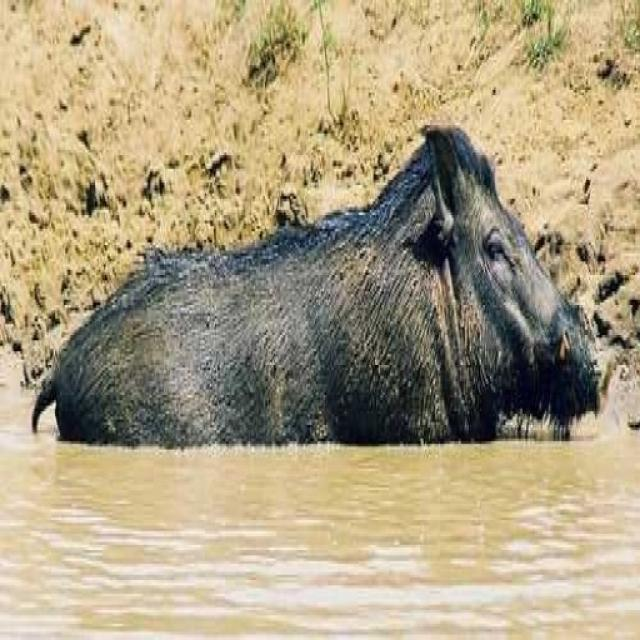pig: (84, 63, 640, 480)
